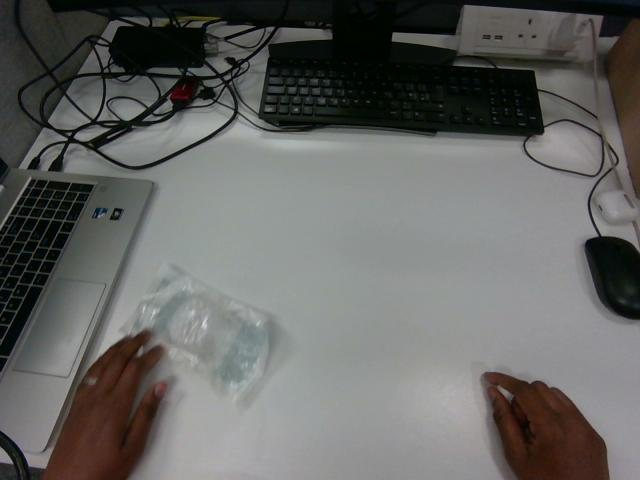gallipot: (124, 266, 268, 401)
